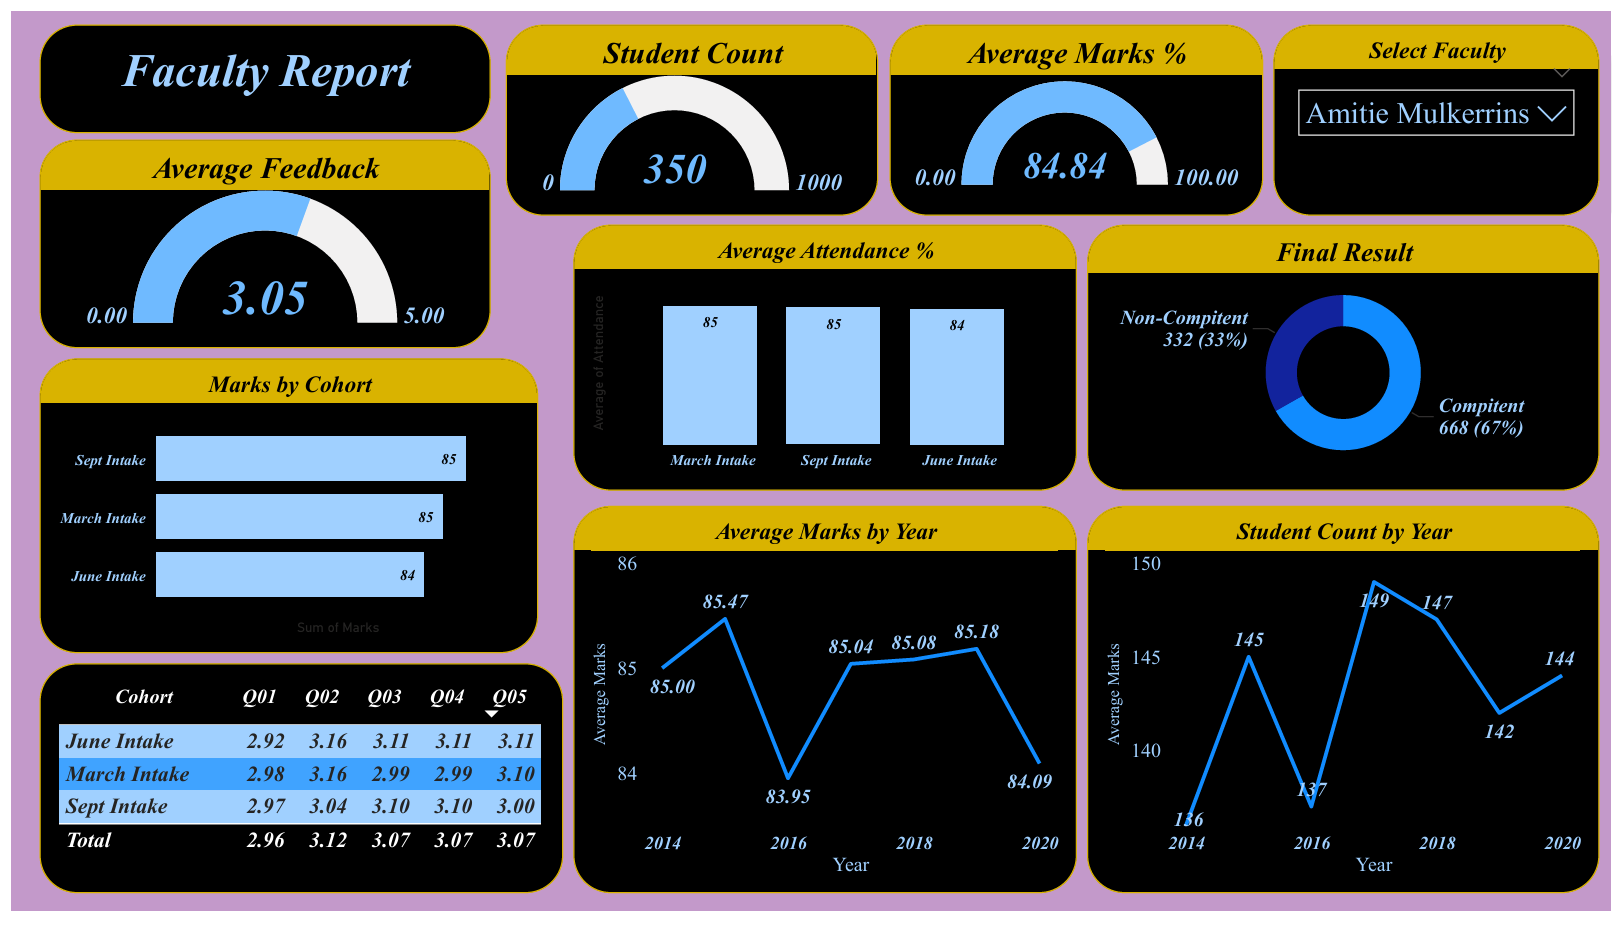

The page's visual inventory and layout, read from the dashboard file:
{"tool":"powerbi","page":{"name":"Faculty Report","canvas":[1280,720],"ordinal":1},"visuals":[{"type":"textbox","box":[22.1,10.5,360.5,86],"z":0},{"type":"gauge","title":"Average Feedback","fields":{"Y":["Feedback.Avg Feedback"]},"box":[22.1,102.3,360.5,166.3],"z":1000},{"type":"slicer","title":"Select Faculty","fields":{"Values":["Faculty.Name"]},"box":[1009.3,10.5,260.5,152.3],"z":2000},{"type":"gauge","title":"Student Count","fields":{"Y":["CountNonNull(Student.Student ID)"]},"box":[395.3,10.5,297.7,152.3],"z":3000},{"type":"gauge","title":"Average Marks %","fields":{"Y":["Avg(Attendance.Marks)"]},"box":[702.3,10.5,298.8,152.3],"z":4000},{"type":"clusteredBarChart","title":"Marks by Cohort","fields":{"Category":["Cohort.Cohort"],"Y":["Sum(Attendance.Marks)"]},"box":[22.1,276.7,398.8,236],"z":5000},{"type":"columnChart","title":"Average Attendance %","fields":{"Category":["Cohort.Cohort"],"Y":["Avg(Attendance.Attendance)"]},"box":[448.8,169.8,403.5,212.8],"z":6000},{"type":"donutChart","title":"Final Result","fields":{"Category":["Attendance.Result"],"Y":["CountNonNull(Attendance.Student ID)"]},"box":[860.5,169.8,409.3,212.8],"z":7000},{"type":"tableEx","fields":{"Values":["Cohort.Cohort","Avg(Feedback.Q01 - Professors teach well at this university?)","Avg(Feedback.Q02 - Teacher encourage us to perform better?)","Avg(Feedback.Q03 - I feel job-competent moving forward from this university?)","Avg(Feedback.Q04 - Lecturers were proficient enough?)","Avg(Feedback.Q05 - I would like to recommend this educational institution to others?)"]},"box":[22.1,520.9,418.6,183.7],"z":8000},{"type":"lineChart","title":"Average Marks by Year","fields":{"Category":["Student.Year"],"Y":["Avg(Attendance.Marks)"]},"box":[448.8,395.3,403.5,309.3],"z":9000},{"type":"lineChart","title":"Student Count by Year","fields":{"Category":["Student.Year"],"Y":["Count(Student.Student ID)"]},"box":[860.5,395.3,409.3,309.3],"z":10000}]}

Visuals, with their boxes in screenshot pixels (x1, y1, x2, y2), scaled from the page's 1280x720 canvas onto the 1623x925 screenshot:
textbox: 28,13,485,124
"Average Feedback" gauge: 28,131,485,345
"Select Faculty" slicer: 1280,13,1610,209
"Student Count" gauge: 501,13,879,209
"Average Marks %" gauge: 890,13,1269,209
"Marks by Cohort" clusteredBarChart: 28,355,534,659
"Average Attendance %" columnChart: 569,218,1081,492
"Final Result" donutChart: 1091,218,1610,492
tableEx - Cohort.Cohort x Avg(Feedback.Q01 - Professors teach well at this university?): 28,669,559,905
"Average Marks by Year" lineChart: 569,508,1081,905
"Student Count by Year" lineChart: 1091,508,1610,905
